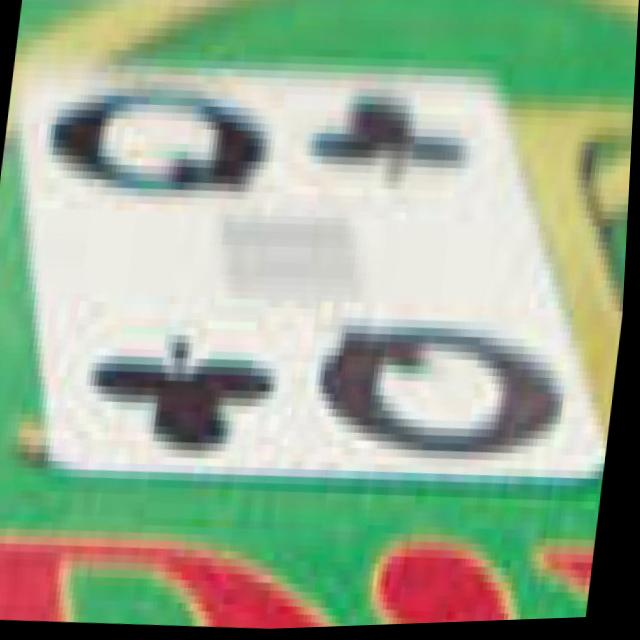Card-Q: (25, 81, 609, 471)
